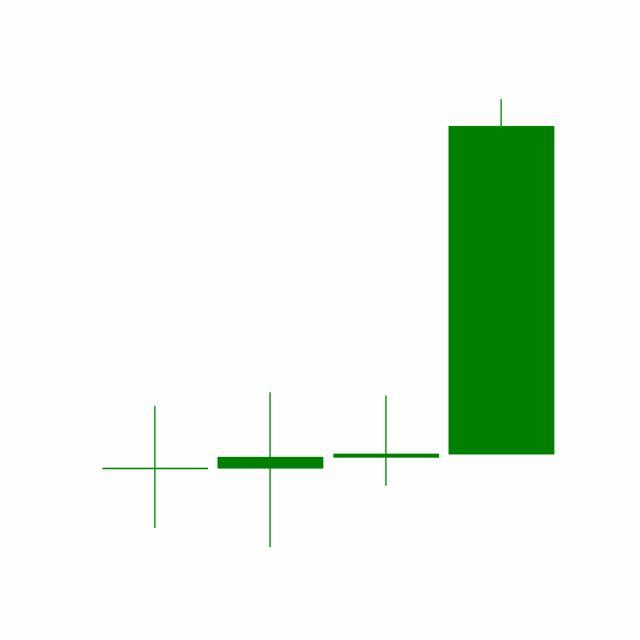Spinning Top: (329, 395, 445, 489)
